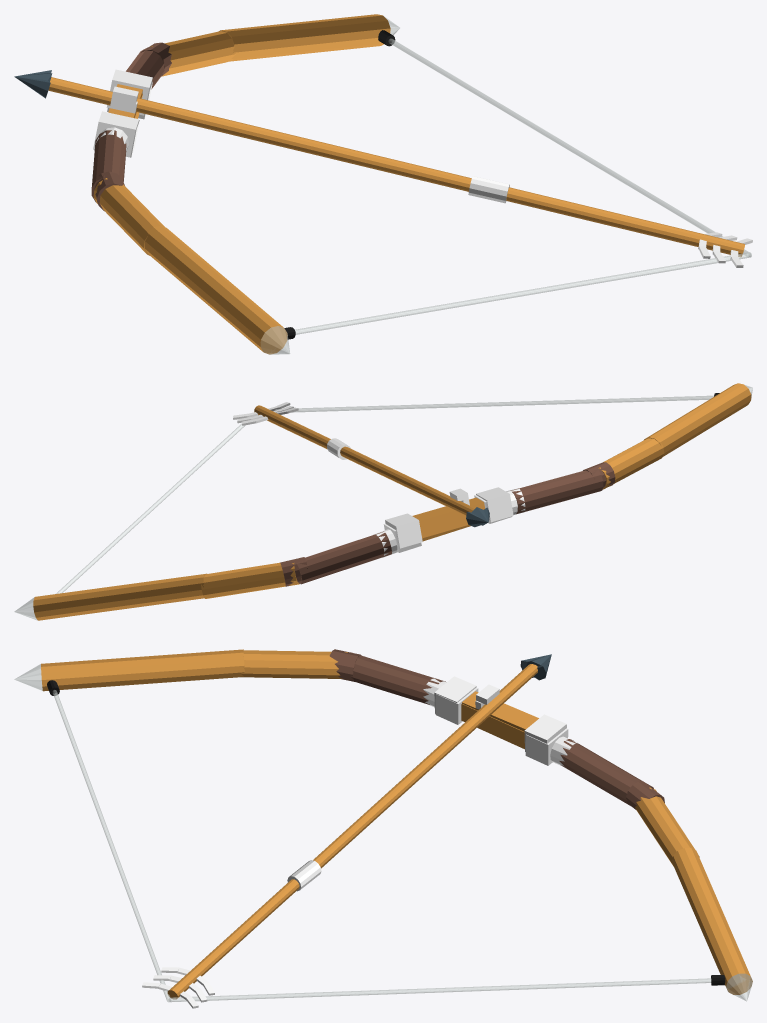
Rendered from A_Simple_Bow_Liam_Hardy_6xa4lt.glb.
3 views of the same model, one above another, from view 1: azimuth 30°, elevation 25°; view 2: azimuth 150°, elevation 25°; view 3: azimuth 270°, elevation 25° (orthographic). The views are drawn at different scales.
Visible parts, largest first — view 1: group941217667, group368276382, group1152416462, group1298199503, group890999519, group1694553815, group1391613797, group2061225317, group1152966127, group785584354, group865385453, group690265494 (+2 smaller); view 2: group1152416462, group368276382, group941217667, group785584354, group1694553815, group2061225317, group1298199503, group1391613797, group1803613310, group890999519, group2084284916, group1152966127 (+1 smaller); view 3: group941217667, group368276382, group1152416462, group890999519, group1391613797, group2061225317, group785584354, group1694553815, group1298199503, group1686587982, group1803613310, group2084284916 (+3 smaller).
Part boxes in pixels (bbox=[...]): group941217667: bbox=[48, 77, 744, 256]; group368276382: bbox=[144, 225, 287, 354]; group1152416462: bbox=[219, 14, 390, 61]; group1298199503: bbox=[295, 252, 751, 334]; group890999519: bbox=[388, 39, 750, 256]; group1694553815: bbox=[150, 31, 235, 76]; group1391613797: bbox=[93, 178, 164, 255]; group2061225317: bbox=[91, 130, 126, 202]; group1152966127: bbox=[93, 111, 138, 157]; group785584354: bbox=[126, 47, 164, 89]; group865385453: bbox=[468, 176, 509, 203]; group690265494: bbox=[260, 326, 290, 354]; group1152416462: bbox=[33, 573, 206, 620]; group368276382: bbox=[644, 383, 751, 456]; group941217667: bbox=[254, 405, 475, 515]; group785584354: bbox=[296, 531, 391, 584]; group1694553815: bbox=[200, 562, 299, 598]; group2061225317: bbox=[510, 469, 603, 514]; group1298199503: bbox=[275, 395, 713, 412]; group1391613797: bbox=[598, 438, 664, 489]; group1803613310: bbox=[412, 497, 485, 538]; group890999519: bbox=[56, 424, 245, 593]; group2084284916: bbox=[385, 513, 422, 548]; group1152966127: bbox=[476, 487, 513, 522]; group941217667: bbox=[167, 664, 537, 999]; group368276382: bbox=[41, 649, 244, 691]; group1152416462: bbox=[671, 848, 752, 994]; group890999519: bbox=[169, 978, 711, 1002]; group1391613797: bbox=[239, 650, 347, 678]; group2061225317: bbox=[349, 652, 445, 704]; group785584354: bbox=[559, 739, 653, 806]; group1694553815: bbox=[635, 787, 699, 866]; group1298199503: bbox=[52, 690, 170, 1002]; group1686587982: bbox=[461, 704, 524, 749]; group1803613310: bbox=[462, 691, 538, 731]; group2084284916: bbox=[524, 714, 566, 751].
Bounding box in the file's own units: 3.35 × 0.9155 × 4.22.
